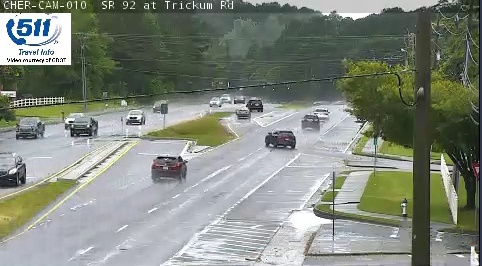car: (151, 155, 186, 179), (301, 114, 319, 129), (312, 107, 329, 120)
